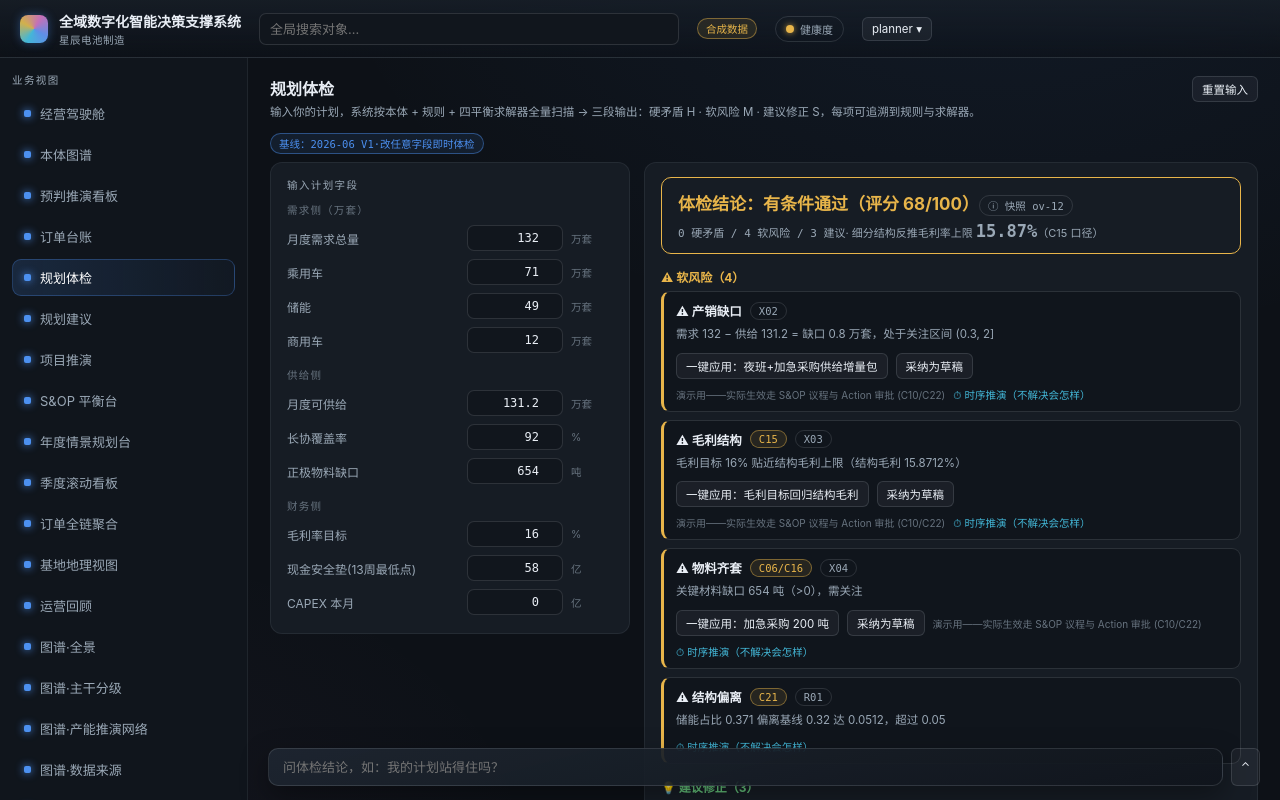
Test: F14 · 规划体检（plan-audit）改参即重算 › 基线预填（V1 定稿）→ 改 cashCushion=45 → X05 硬卡(C18) → 一键 fix → 降为软风险；评分/档位色联动；重置回基线
Expected: the number field with test id "audit-input-dem" holds "132", [467,225,563,251]
Expected: the number field with test id "audit-input-sup" holds "131.2", [467,390,563,416]
Step 1. Replace the text in the number field with test id "audit-input-cashCushion" with "45" → x=515, y=568, box [467,555,563,581]
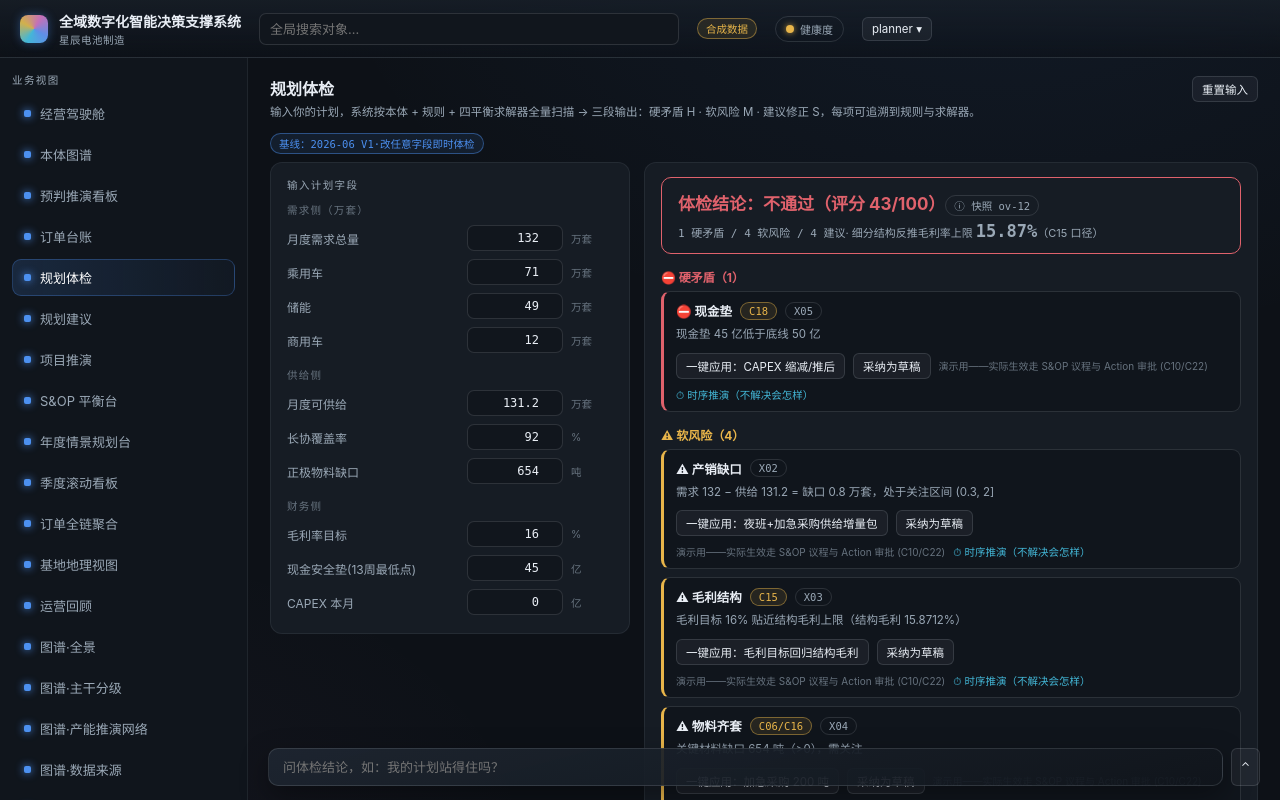
Now the element with test id "audit-item-hard-X05" shows "现金垫", box [695,304,732,319]
Now the element with test id "audit-item-hard-X05" shows "45 亿低于底线 50 亿", box [676,327,821,341]
Now the button with test id "rule-badge-hard-X05" reads "C18", box [740,302,777,320]
Note: 一键应用 fix → patch 回写左栏（cashCushion → 50）→ 自动重检 → X05 降为软风险
Step 2. Click the button with test id "apply-fix-hard-X05" → x=761, y=366, box [676,353,845,379]
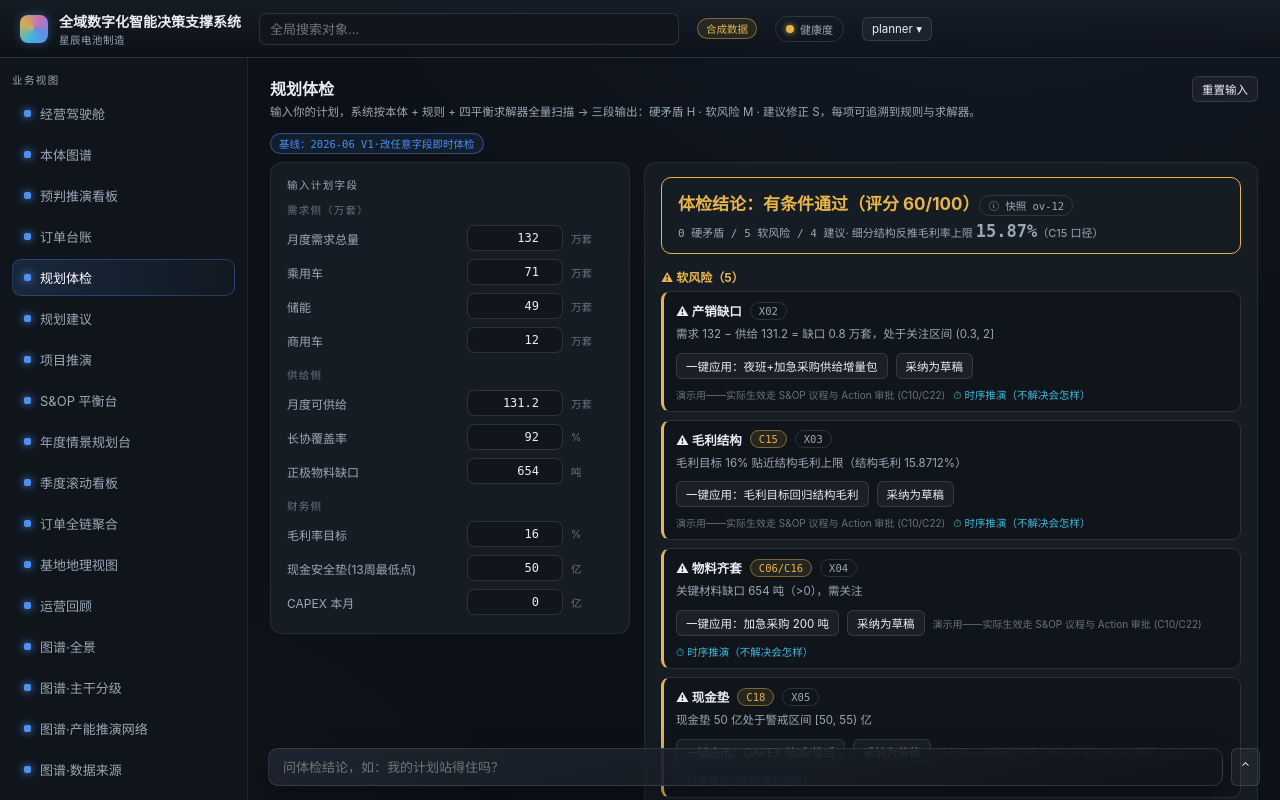
Now the number field with test id "audit-input-cashCushion" holds "50", box [467,555,563,581]
Now the element with test id "audit-item-med-X05" is shown, box [661,677,1241,798]
Now the element with test id "audit-item-hard-X05" is gone
Note: 重置输入 → 恢复基线并重检
Step 3. Click the button "重置输入" → x=1225, y=89, box [1192,76,1258,102]
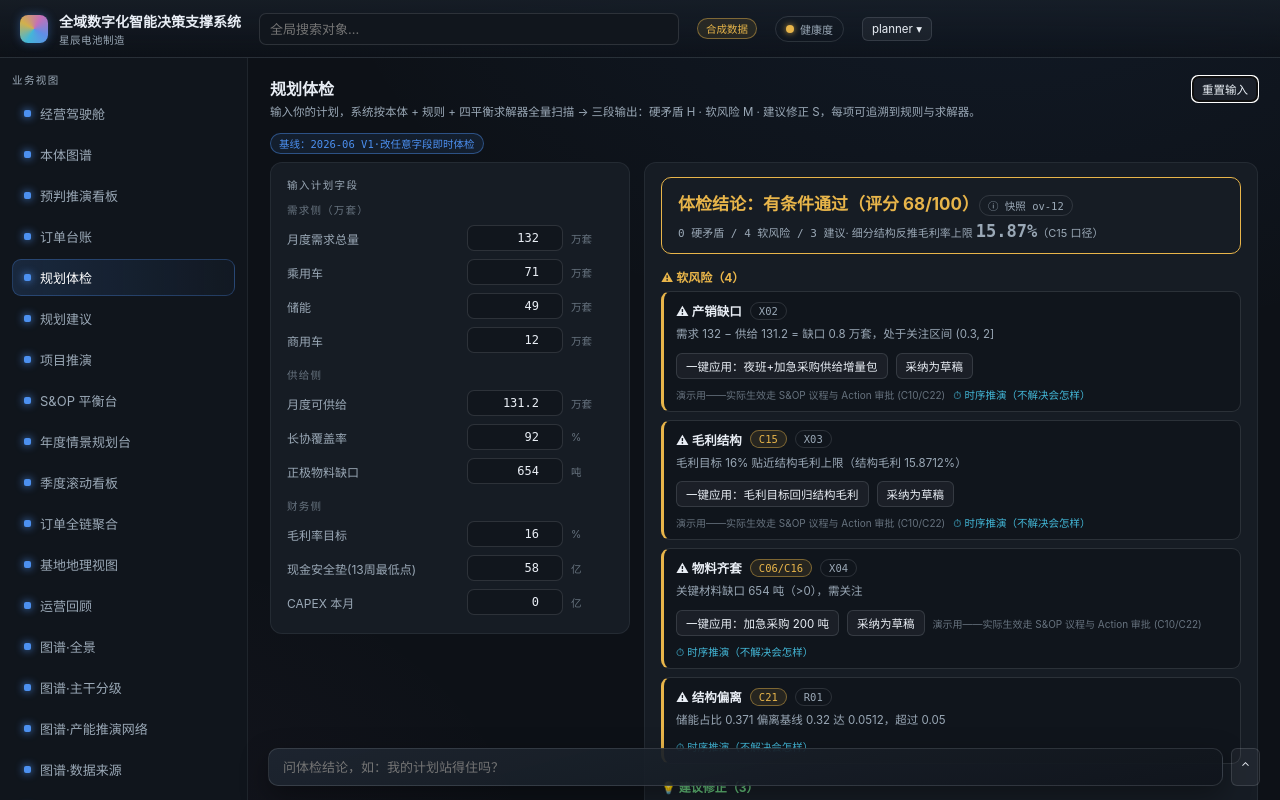
Now the number field with test id "audit-input-cashCushion" holds "58", box [467,555,563,581]
Now the text with test id "audit-counts" reads "0 硬矛盾 / 4 软风险 / 3 建议", box [678,227,846,240]
